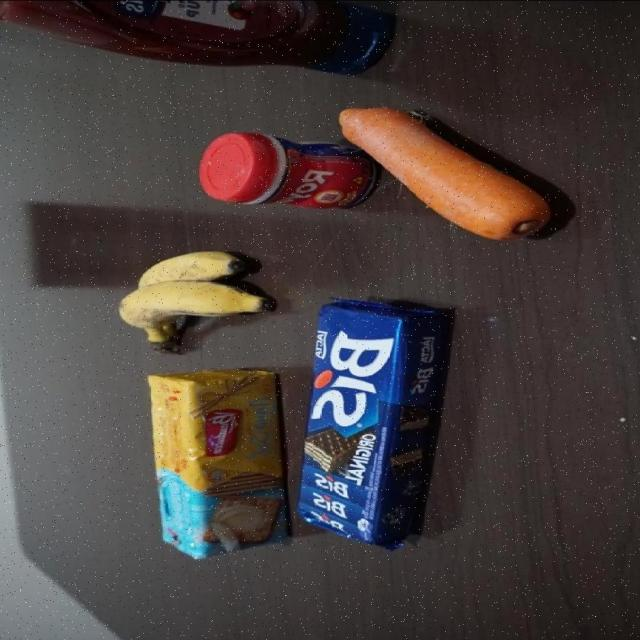Banana: (117, 248, 274, 356)
Carrot: (335, 106, 557, 241)
Cracker: (147, 368, 291, 560)
Ketchup: (0, 0, 398, 76)
Yeast: (198, 130, 379, 212)
